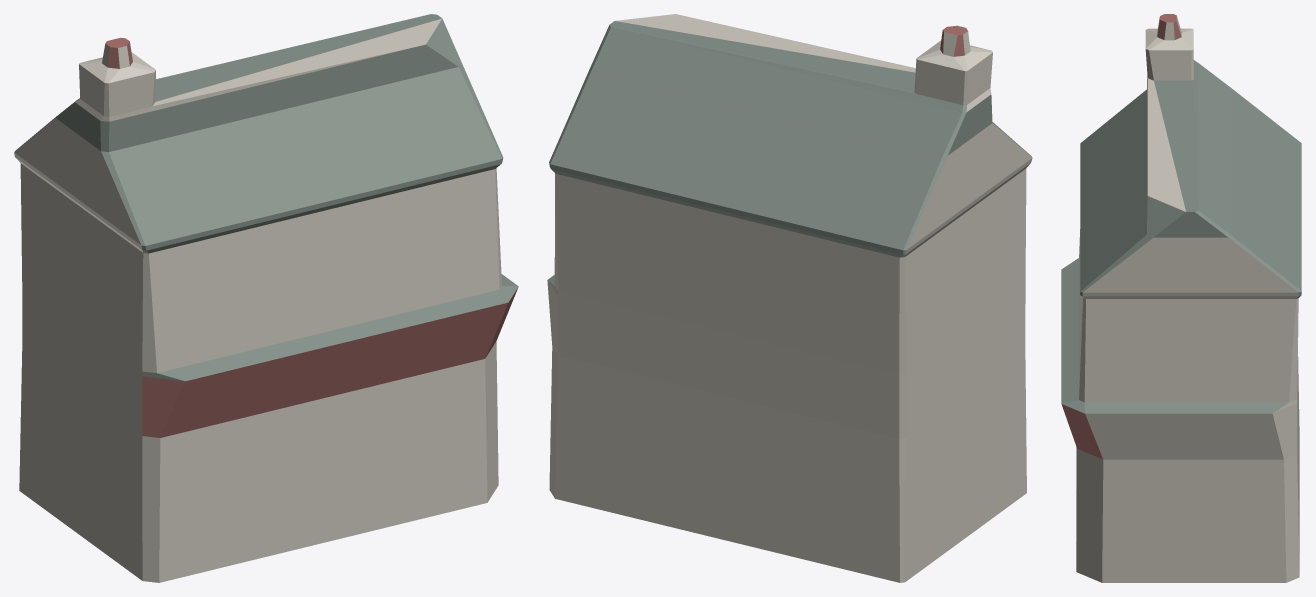
Rendered from loin.glb.
3 views of the same model, side by side, from view 1: azimuth 30°, elevation 25°; view 2: azimuth 150°, elevation 25°; view 3: azimuth 270°, elevation 25° (orthographic). The views are drawn at different scales.
Parts seen in each view (by area): view 1: loin; view 2: loin; view 3: loin.
Part boxes in pixels (x1,y1,x2,y2): loin: (14, 14, 518, 582); loin: (547, 14, 1032, 582); loin: (1061, 14, 1301, 582).
Size of the model in its own units: 0.7693 by 0.9648 by 0.4967.
